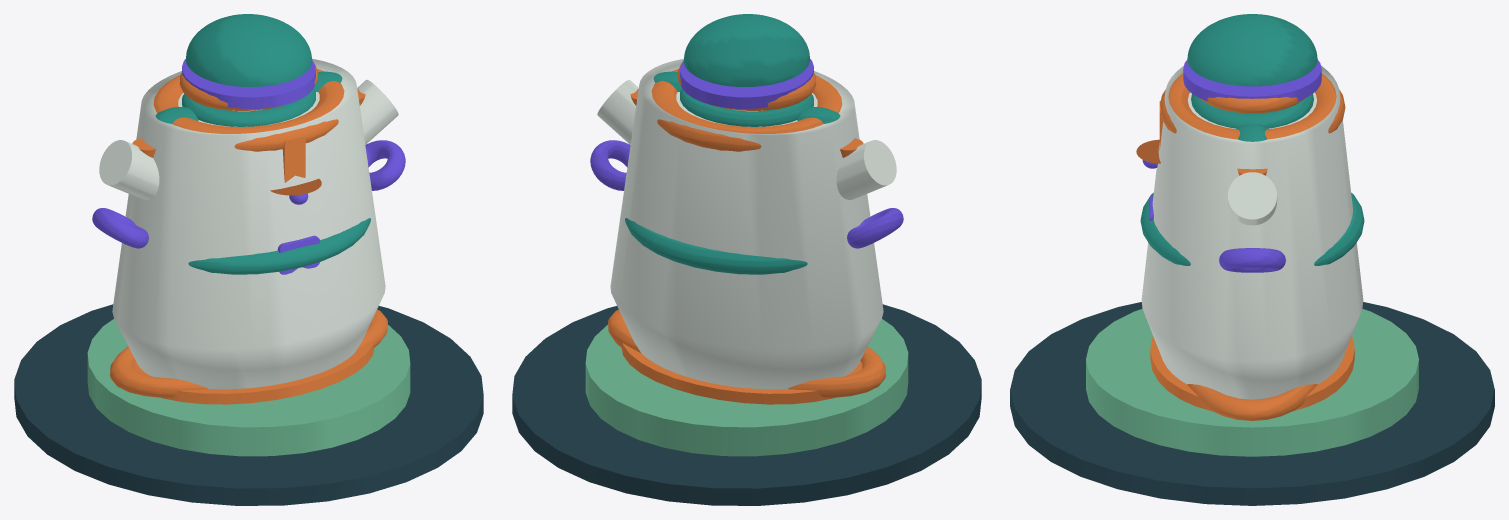
The model's file is 0734_先秦图鉴_骨耜.glb.
3 views of the same model, side by side, from view 1: azimuth 30°, elevation 25°; view 2: azimuth 150°, elevation 25°; view 3: azimuth 270°, elevation 25° (orthographic).
Visible parts, largest first — view 1: card_0734; view 2: card_0734; view 3: card_0734.
Boxes of the visible parts, <box> form: card_0734: <box>14,14,483,505</box>; card_0734: <box>512,14,981,505</box>; card_0734: <box>1010,14,1494,505</box>.
Size of the model in its own units: 1.1 by 1 by 1.14.
